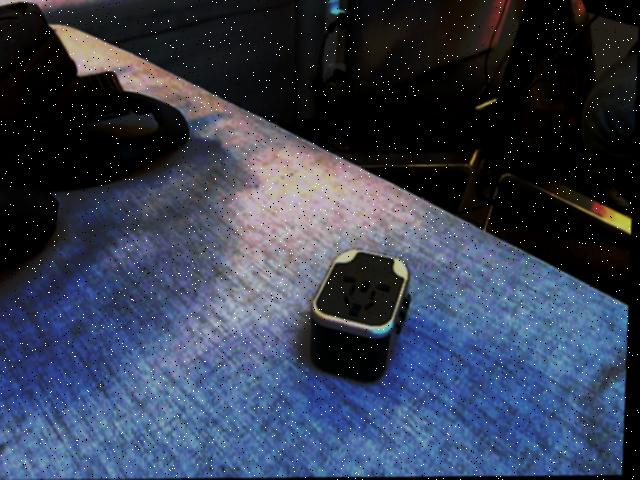adapter: (309, 247, 415, 383)
